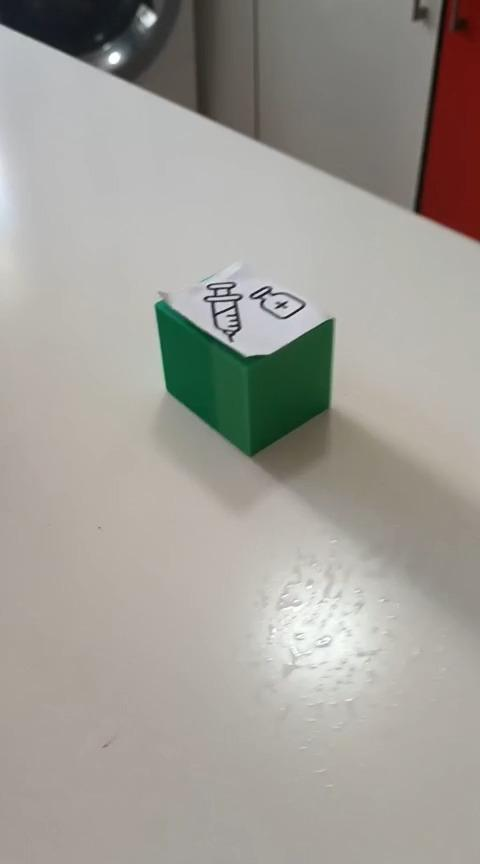antiseptic cream: (153, 259, 336, 457)
